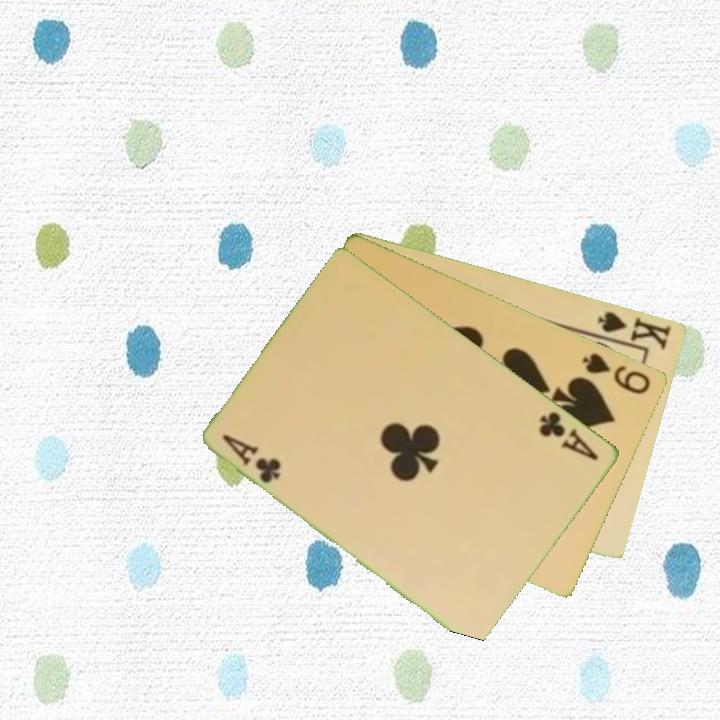9s: (579, 349, 654, 397)
Ac: (535, 408, 602, 464), (220, 430, 285, 487)
Ks: (589, 307, 675, 352)
